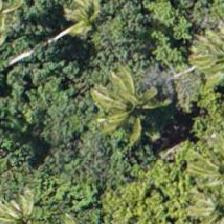coconut_tree: (84, 56, 174, 146), (44, 0, 134, 62)
